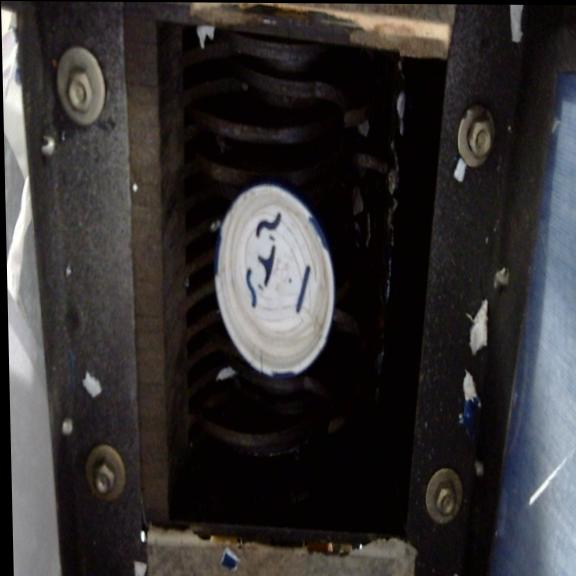Plastik: (187, 169, 356, 389)
